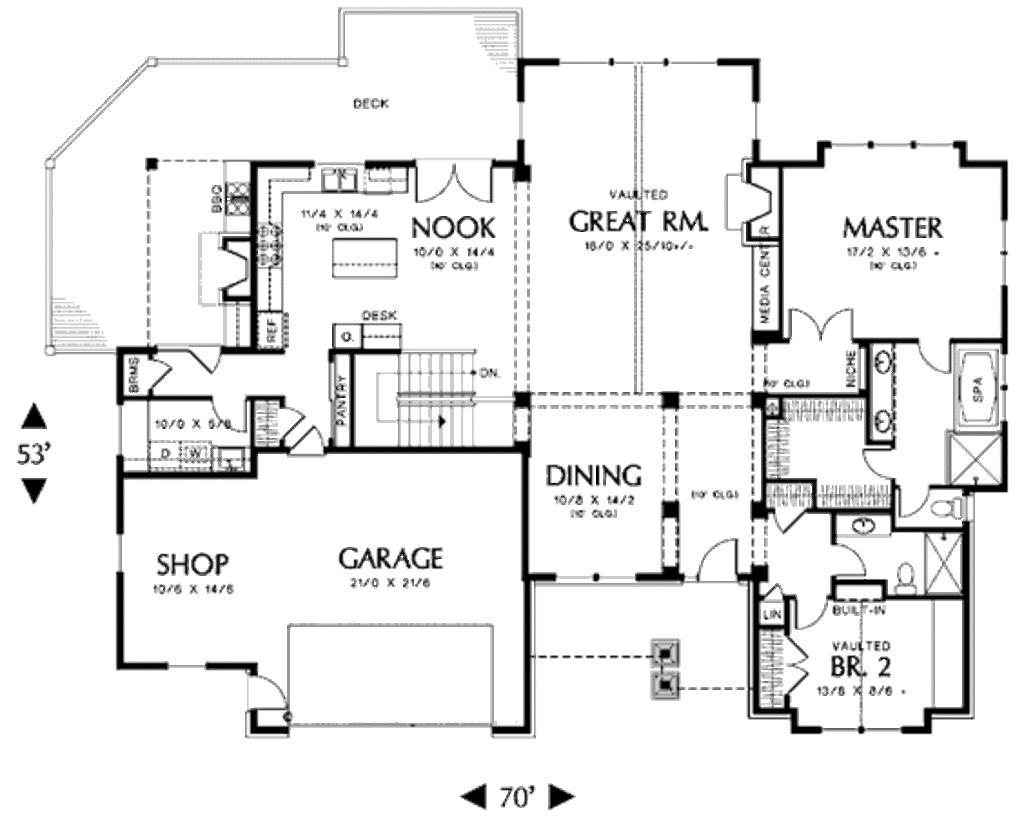door: (406, 150, 503, 211), (913, 330, 963, 385), (788, 308, 860, 344), (693, 537, 747, 580), (817, 536, 870, 575), (782, 636, 813, 699), (887, 480, 930, 522), (860, 445, 903, 483), (206, 392, 245, 432), (182, 347, 231, 378), (289, 423, 332, 456), (796, 599, 835, 630), (146, 359, 179, 395), (769, 502, 808, 532), (278, 401, 301, 442)
kitchen_bar: (320, 225, 421, 288)
large_sink: (927, 489, 979, 523), (887, 552, 922, 595)
small_sink: (873, 342, 901, 442), (830, 507, 901, 536)
stairs: (354, 350, 490, 447)
tub: (952, 344, 1006, 428)
twin_sink: (308, 157, 370, 198)
window: (559, 51, 720, 75), (828, 135, 968, 151), (158, 656, 226, 682), (997, 208, 1015, 292), (109, 528, 135, 575), (515, 98, 527, 142)
